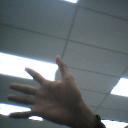hand: (6, 52, 81, 122)
